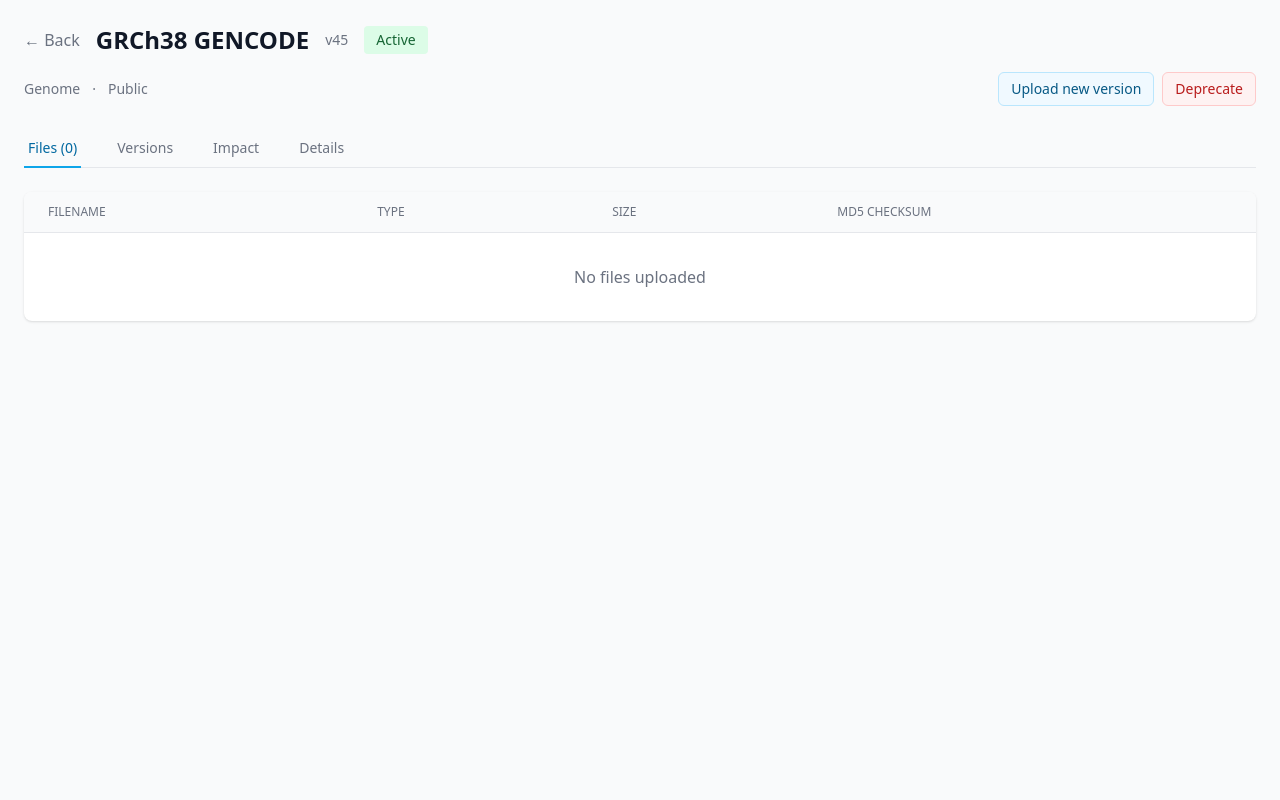
Test: Reference Detail: deprecation blast radius › still shows a real blast radius when the fetch succeeds
Step 1. Click the button "Deprecate" → [1209, 89], box 1162,72 -> 1256,106
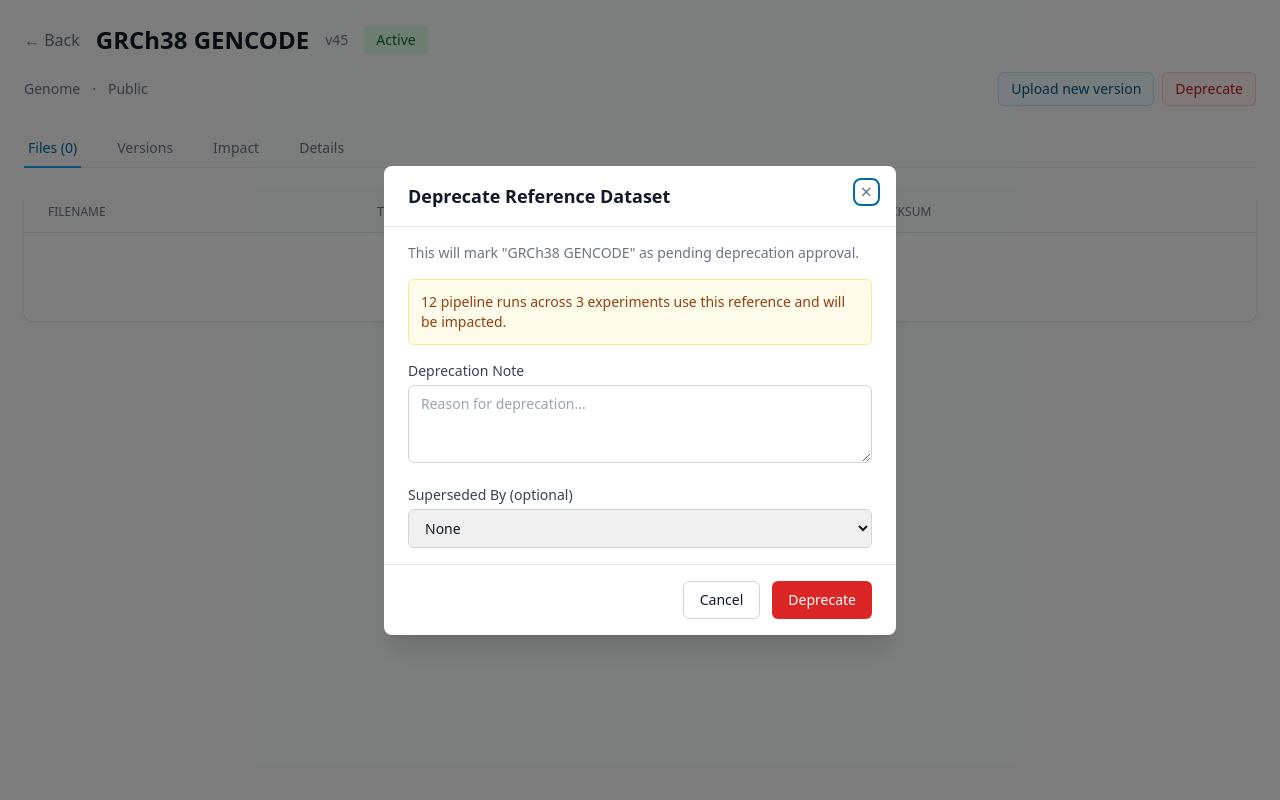
Expected: the text "12 pipeline runs across 3 experiments" is shown, 421,292 -> 859,332
